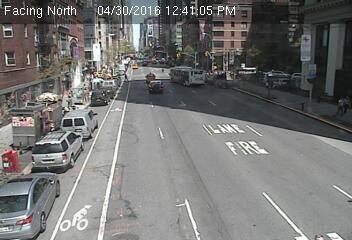neg: (57, 129, 77, 157), (294, 150, 310, 171), (115, 120, 128, 137), (260, 51, 271, 66), (83, 46, 92, 59), (169, 188, 178, 200), (195, 16, 204, 27), (241, 69, 249, 80), (205, 119, 213, 129), (297, 100, 305, 110), (106, 37, 113, 46), (235, 32, 242, 41), (197, 80, 203, 88), (87, 199, 93, 207), (233, 134, 239, 142), (184, 49, 190, 56)
pos: (331, 95, 347, 116), (340, 94, 351, 115), (64, 94, 73, 107), (121, 72, 128, 82), (161, 67, 165, 73)
